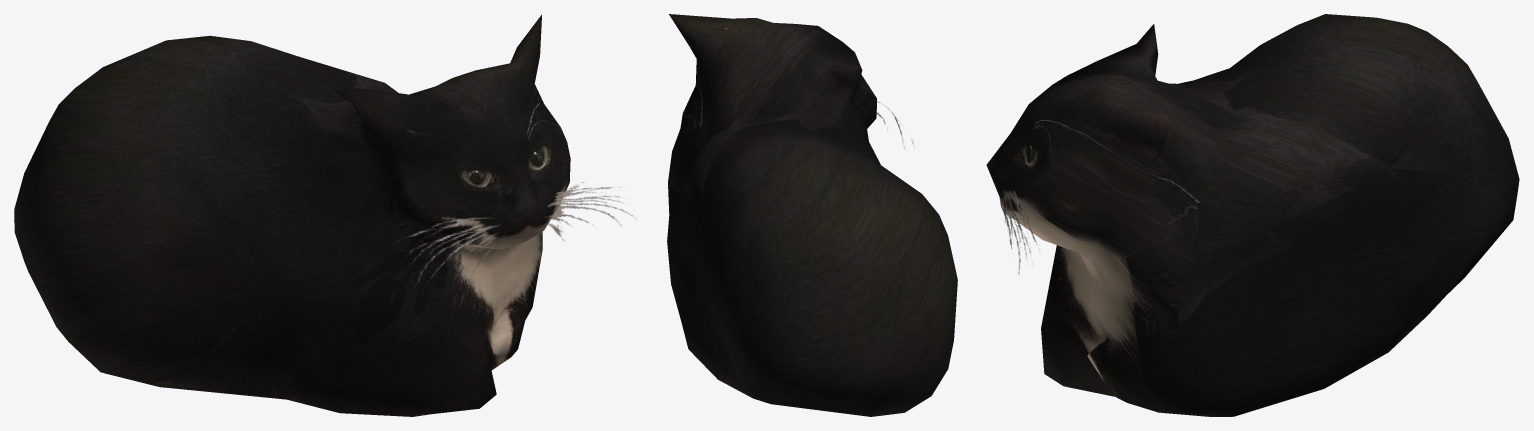
The model's file is maxwell.glb.
The picture shows the model from 3 angles, left to right: view 1: azimuth 30°, elevation 25°; view 2: azimuth 150°, elevation 25°; view 3: azimuth 270°, elevation 25°; orthographic projection. The views are drawn at different scales.
Parts seen in each view (by area): view 1: dingus; view 2: dingus; view 3: dingus.
Boxes of the visible parts, x1,y1,x2,y2 form: dingus: (14, 14, 636, 416); dingus: (667, 14, 957, 416); dingus: (986, 14, 1519, 416).
Size of the model in its own units: 1.19 by 0.8822 by 1.26.
Materials: 2 (2 with a texture image).
